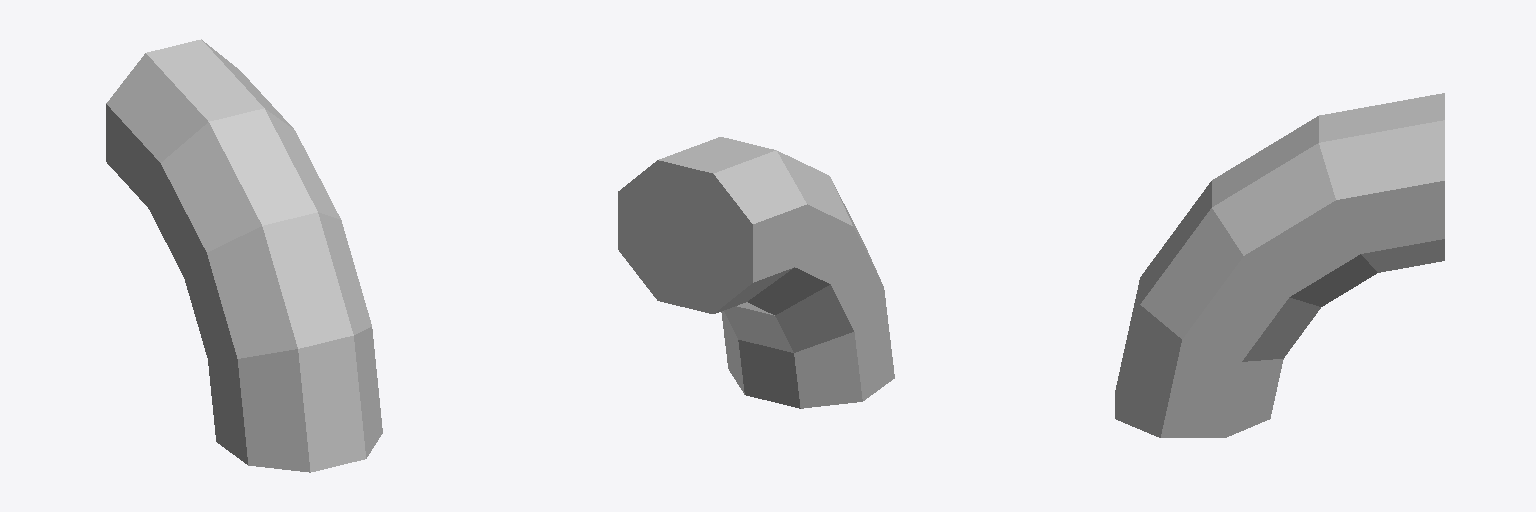
The model's file is pipe_8_curve.obj.
3 views of the same model, side by side, from view 1: azimuth 30°, elevation 25°; view 2: azimuth 150°, elevation 25°; view 3: azimuth 270°, elevation 25° (orthographic).
Visible parts, largest first — view 1: Cylinder.001; view 2: Cylinder.001; view 3: Cylinder.001.
Part boxes in pixels (x1,y1,x2,y2): Cylinder.001: (106,39,382,472); Cylinder.001: (618,137,894,408); Cylinder.001: (1115,93,1444,437).
Size of the model in its own units: 0.9239 by 1.96 by 1.96.